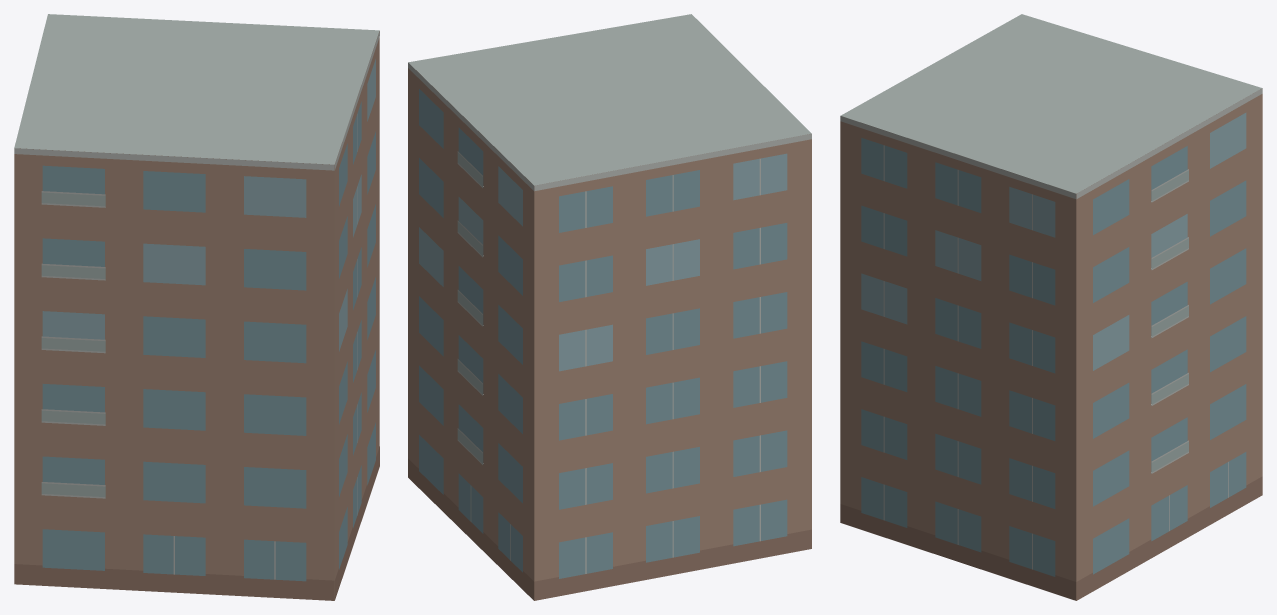
File: survey-upis-32641690.glb
3 views of the same model, side by side, from view 1: azimuth 30°, elevation 25°; view 2: azimuth 150°, elevation 25°; view 3: azimuth 270°, elevation 25° (orthographic). The views are drawn at different scales.
Visible parts, largest first — view 1: survey-upis-32641690.tmp; view 2: survey-upis-32641690.tmp; view 3: survey-upis-32641690.tmp.
Boxes of the visible parts, x1,y1,x2,y2 form: survey-upis-32641690.tmp: (14,14,379,600); survey-upis-32641690.tmp: (408,14,811,600); survey-upis-32641690.tmp: (840,14,1262,600).
Size of the model in its own units: 17.06 by 18 by 16.92.
